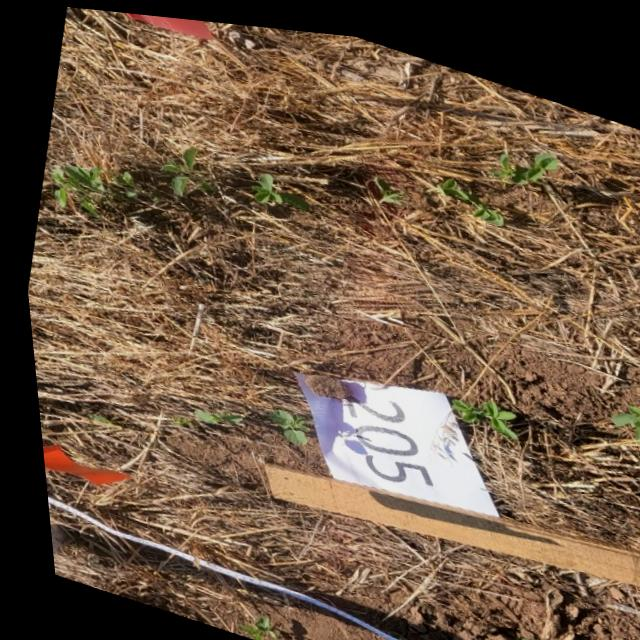soy_plant: (47, 163, 134, 208), (430, 168, 499, 214), (442, 388, 507, 427), (486, 139, 554, 174), (156, 144, 204, 192), (247, 167, 305, 205), (603, 388, 640, 439), (258, 403, 300, 440), (367, 168, 400, 196), (186, 407, 232, 419), (300, 367, 321, 387), (502, 627, 527, 640)
